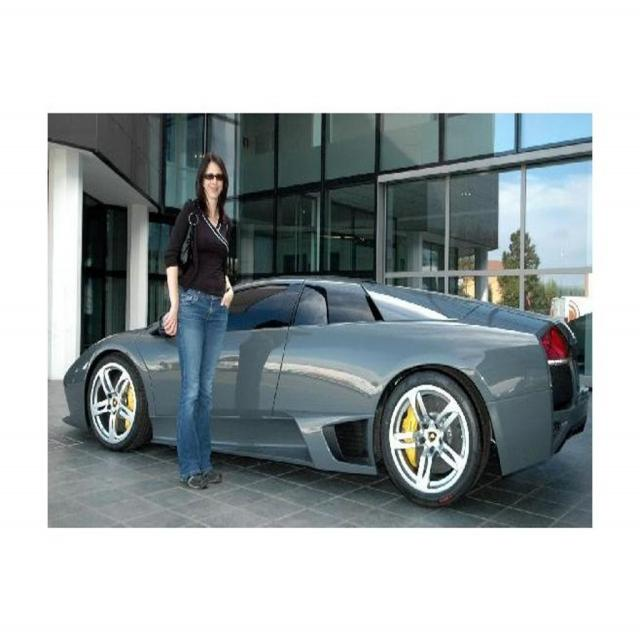nomask: (204, 160, 224, 198)
